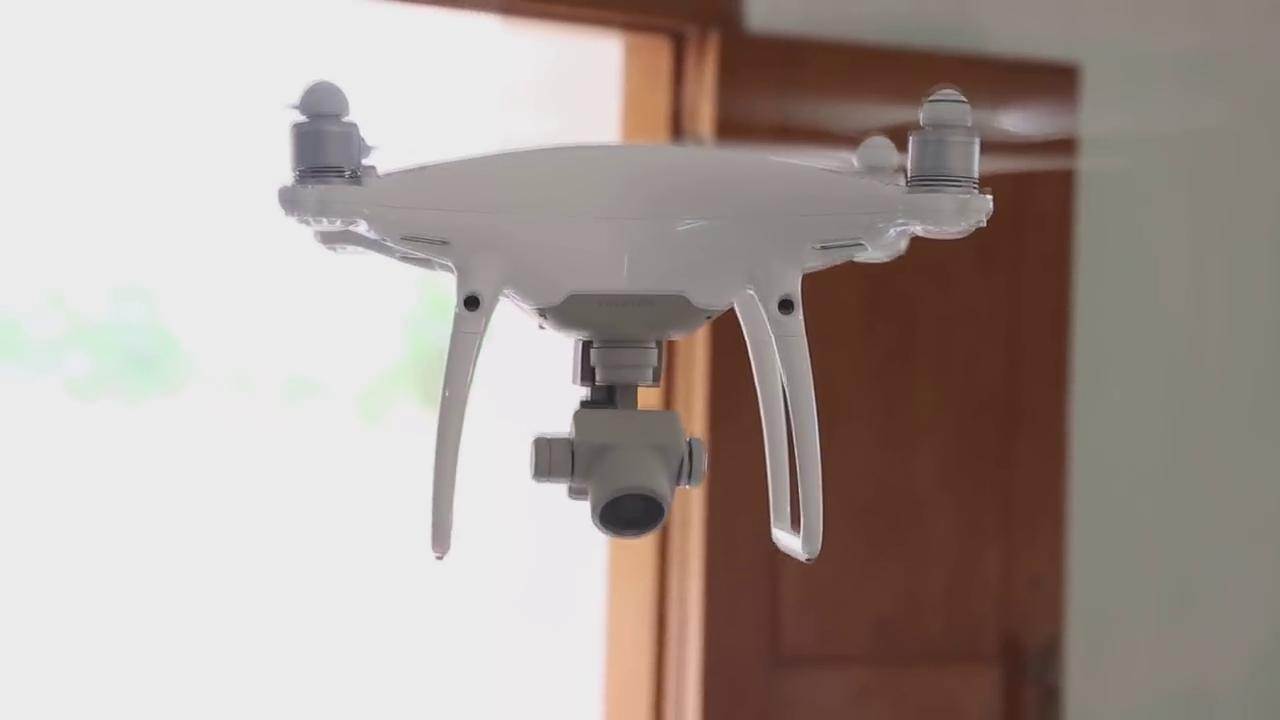drone: (272, 79, 996, 570)
